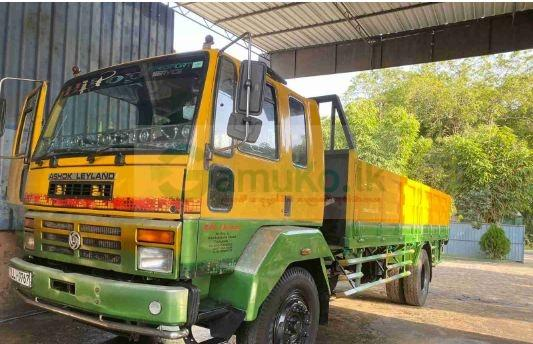truck: (8, 46, 452, 344)
